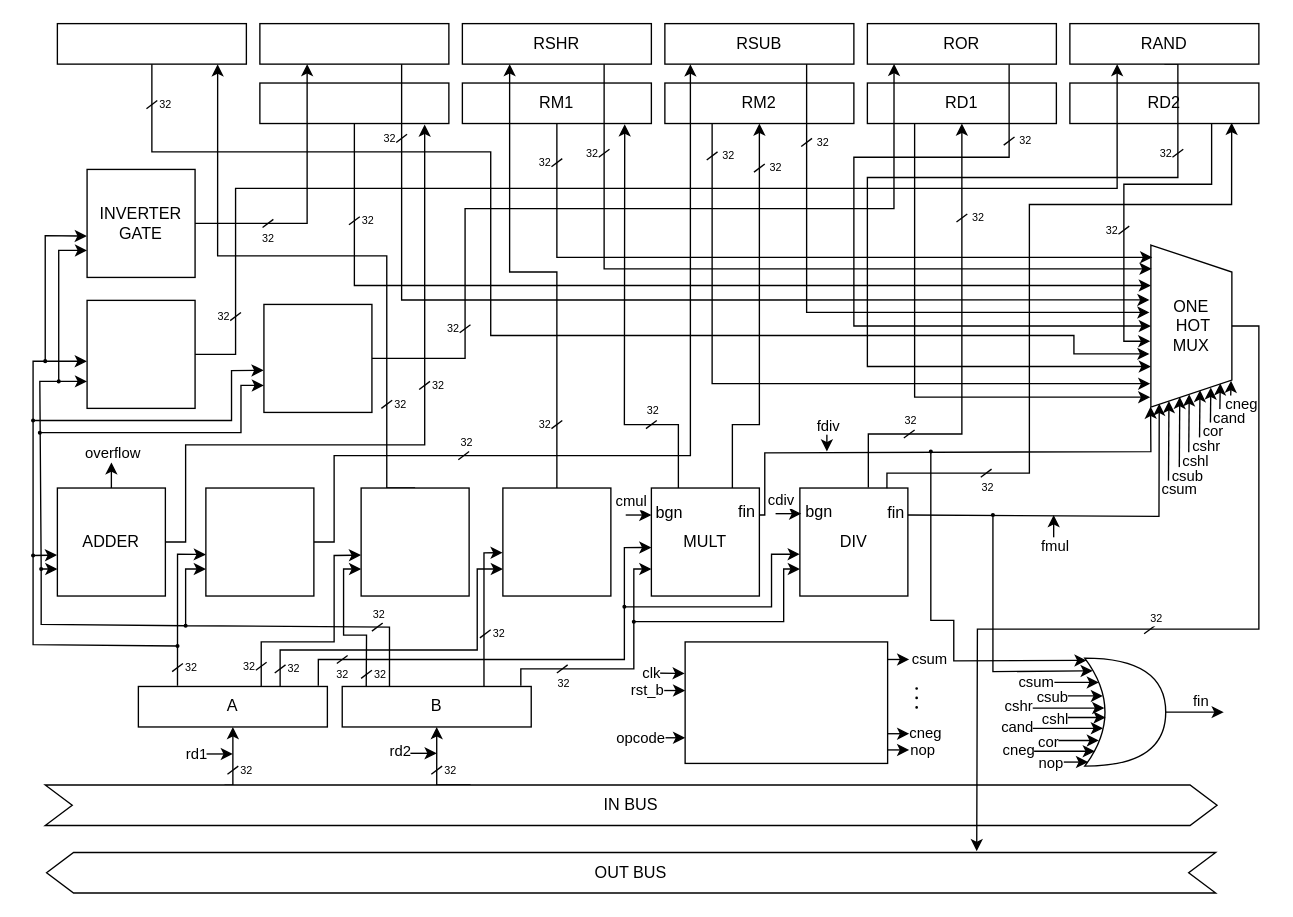
This 1293x917 diagram has some shape labels left out. Each missing label, with the box of its shape:
AND GATE: (86, 299, 195, 408)
CONTROL UNIT: (684, 641, 888, 763)
LEFT SHIFT: (360, 487, 469, 596)
OR GATE: (263, 303, 372, 412)
RIGHT SHIFT: (502, 487, 611, 596)
RNEG: (259, 22, 449, 64)
RSHL: (56, 22, 246, 64)
RSUM: (259, 82, 449, 124)
SUB: (205, 487, 314, 596)
